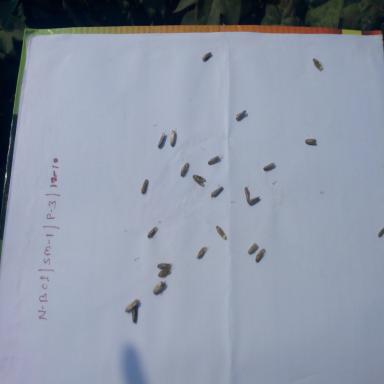pbw: (121, 295, 140, 314), (310, 56, 326, 77), (214, 222, 229, 242), (210, 183, 226, 200), (155, 258, 173, 272), (192, 172, 207, 188), (152, 280, 167, 296), (246, 193, 262, 208), (196, 243, 210, 260), (246, 240, 259, 258), (304, 134, 320, 148), (254, 246, 265, 266), (262, 160, 276, 175), (206, 153, 221, 167), (156, 266, 173, 278), (156, 130, 166, 150), (201, 50, 213, 66), (242, 184, 252, 202), (180, 162, 191, 178), (140, 178, 150, 195), (146, 226, 158, 240), (169, 128, 177, 149), (235, 108, 247, 122), (132, 305, 138, 324)
